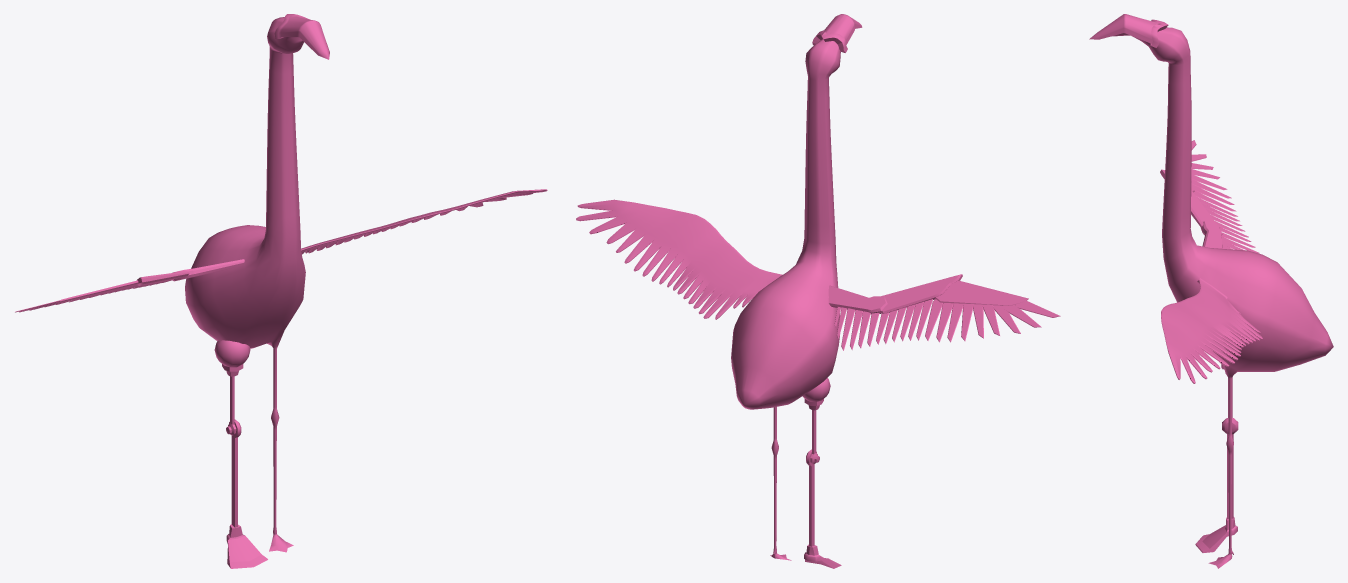
Rendered from MDL_Character_FlamingoUpdatedUV.fbx.
3 renders of one model, left to right at view 1: azimuth 30°, elevation 25°; view 2: azimuth 150°, elevation 25°; view 3: azimuth 270°, elevation 25°, orthographic. The views are drawn at different scales.
Visible parts, largest first — view 1: Body, beakCover2, foot, leg_connectorsphere, leg_lower; view 2: Body, end, middle, root, beakCover2; view 3: Body, beakCover2, foot, leg_lower, root, middle.
Part boxes in pixels (x1,y1,x2,y2): Body: (185, 17, 547, 552); beakCover2: (274, 14, 329, 59); foot: (226, 524, 267, 568); leg_connectorsphere: (214, 340, 250, 376); leg_lower: (229, 419, 241, 527); Body: (576, 39, 840, 560); end: (935, 280, 1028, 305); middle: (879, 274, 962, 313); root: (828, 285, 887, 313); beakCover2: (812, 14, 862, 52); Body: (1111, 27, 1333, 568); beakCover2: (1089, 14, 1168, 47); foot: (1195, 517, 1237, 552); leg_lower: (1222, 418, 1238, 518); root: (1200, 221, 1222, 248); middle: (1160, 169, 1219, 228).
Bounding box in the file's own units: 1.54 × 1.57 × 0.6448.
